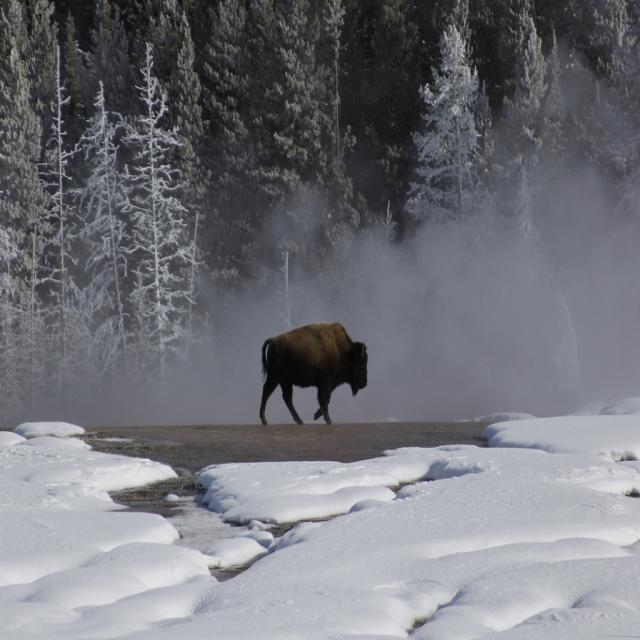Deer: (257, 322, 370, 428)
